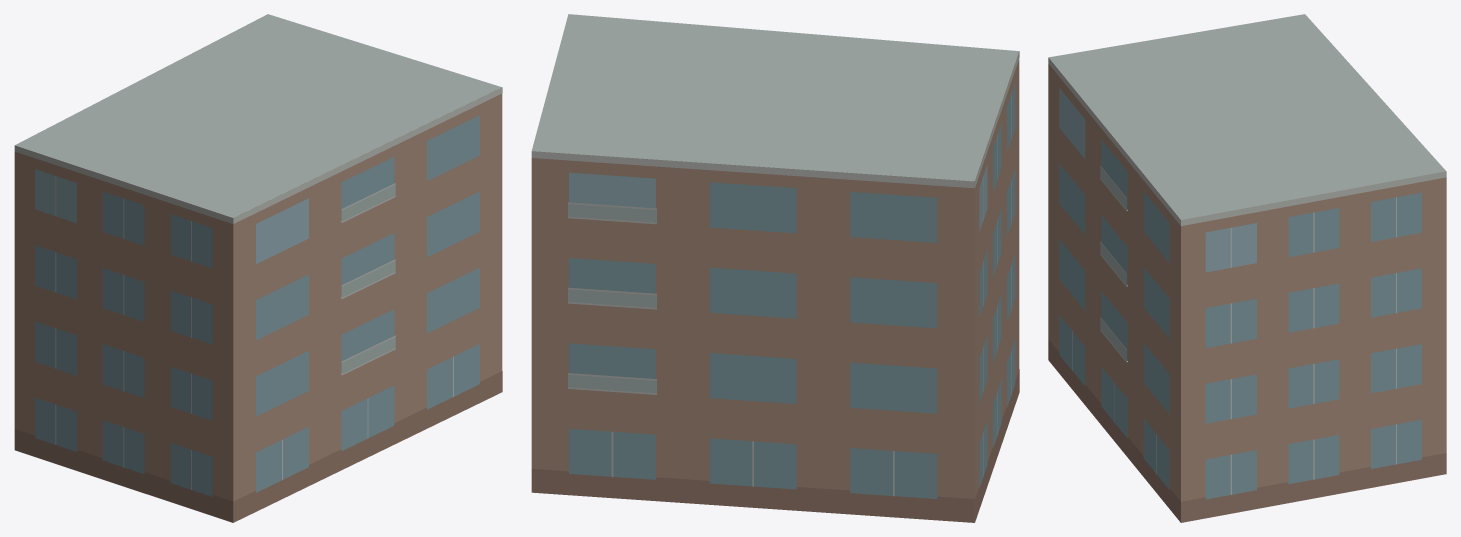
Rendered from residential-6d8cccef-792c-4477-a21d-eb78d5dd3fc1.glb.
The picture shows the model from 3 angles, left to right: view 1: azimuth 30°, elevation 25°; view 2: azimuth 150°, elevation 25°; view 3: azimuth 270°, elevation 25°; orthographic projection. The views are drawn at different scales.
Visible parts, largest first — view 1: residential-6d8cccef-792c-4477-a21d-eb78d5dd3fc1.tmp; view 2: residential-6d8cccef-792c-4477-a21d-eb78d5dd3fc1.tmp; view 3: residential-6d8cccef-792c-4477-a21d-eb78d5dd3fc1.tmp.
Part boxes in pixels (left/top/right/bottom): residential-6d8cccef-792c-4477-a21d-eb78d5dd3fc1.tmp: left=14, top=14, right=502, bottom=522; residential-6d8cccef-792c-4477-a21d-eb78d5dd3fc1.tmp: left=531, top=14, right=1019, bottom=522; residential-6d8cccef-792c-4477-a21d-eb78d5dd3fc1.tmp: left=1048, top=14, right=1446, bottom=522.
Size of the model in its own units: 17.82 by 12.2 by 14.55.
